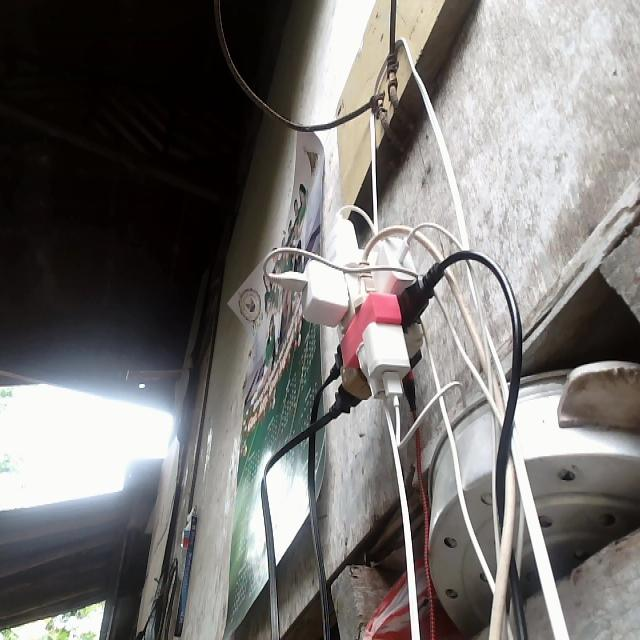-: (271, 206, 446, 414)
